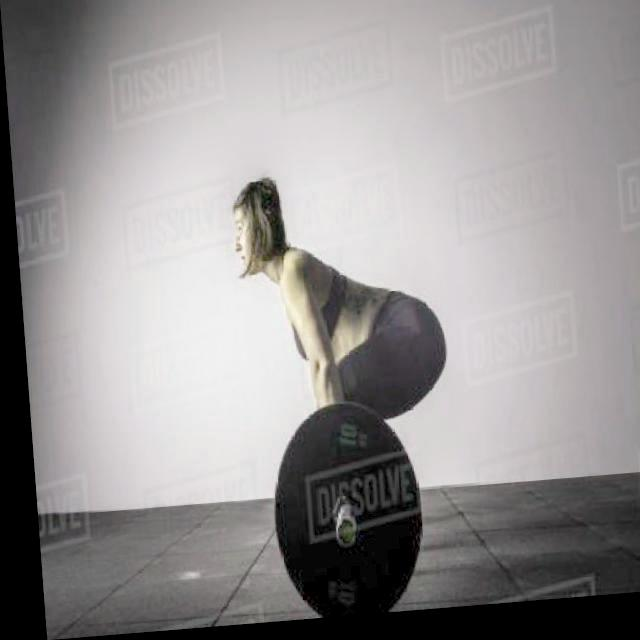barbell: (255, 397, 425, 625)
